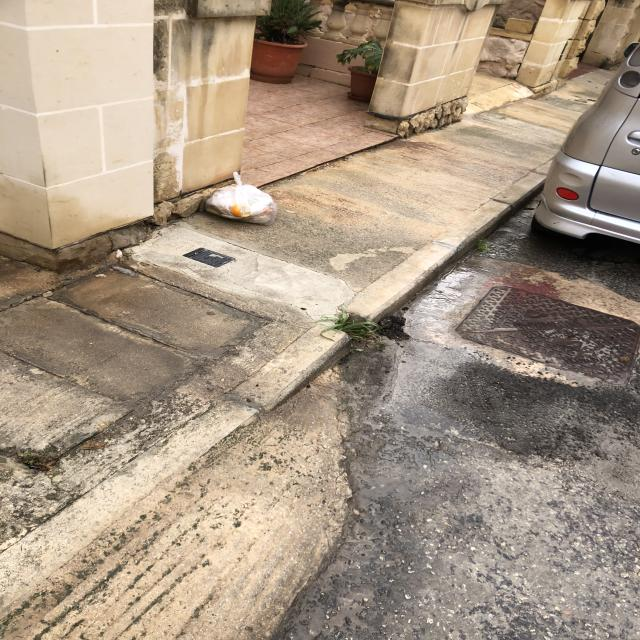Organic Waste -White Bag-: (205, 173, 278, 226)
